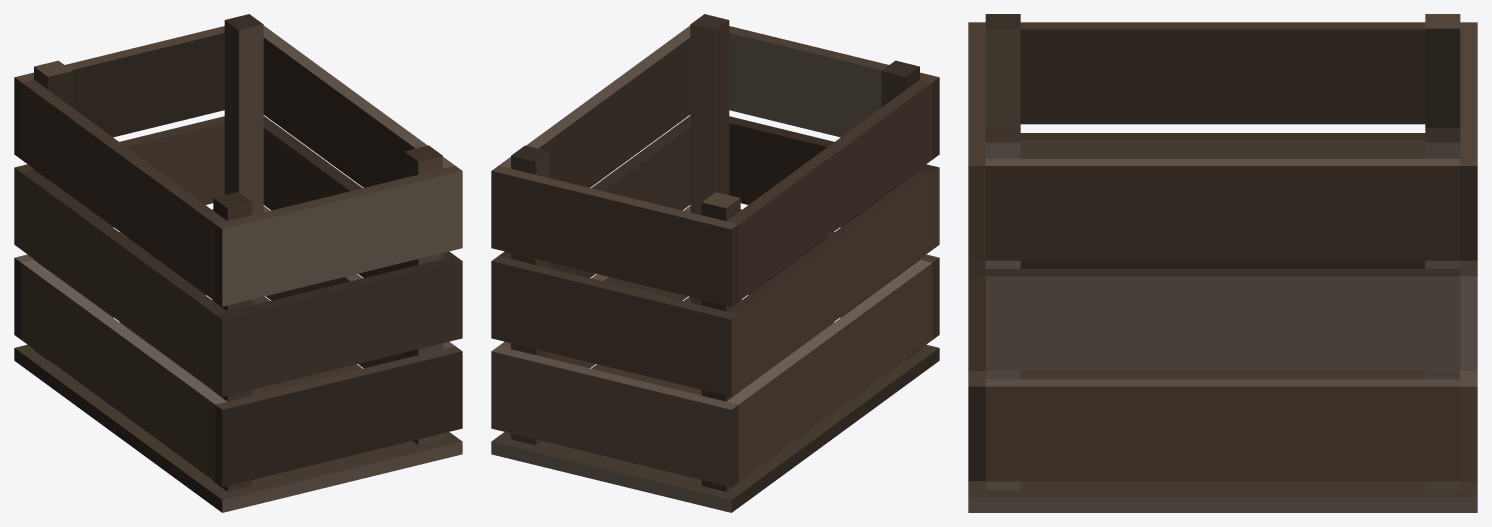
File: Prop_FoodCrate.fbx
3 views of the same model, side by side, from view 1: azimuth 30°, elevation 25°; view 2: azimuth 150°, elevation 25°; view 3: azimuth 270°, elevation 25° (orthographic). The views are drawn at different scales.
Visible parts, largest first — view 1: Prop_FoodCrate; view 2: Prop_FoodCrate; view 3: Prop_FoodCrate.
Boxes of the visible parts, left/top/right/bottom form: Prop_FoodCrate: left=14, top=14, right=462, bottom=512; Prop_FoodCrate: left=491, top=14, right=939, bottom=512; Prop_FoodCrate: left=968, top=14, right=1477, bottom=512.
Bounding box in the file's own units: 48.75 × 57.5 × 73.13.
